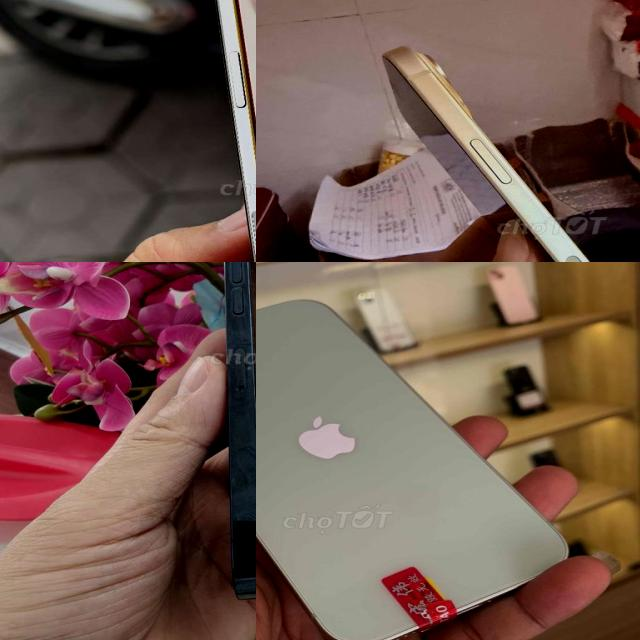gen_12_13: (208, 262, 256, 600)
gen_15: (256, 297, 572, 640), (372, 41, 640, 262)
gen_17: (199, 0, 256, 262)
